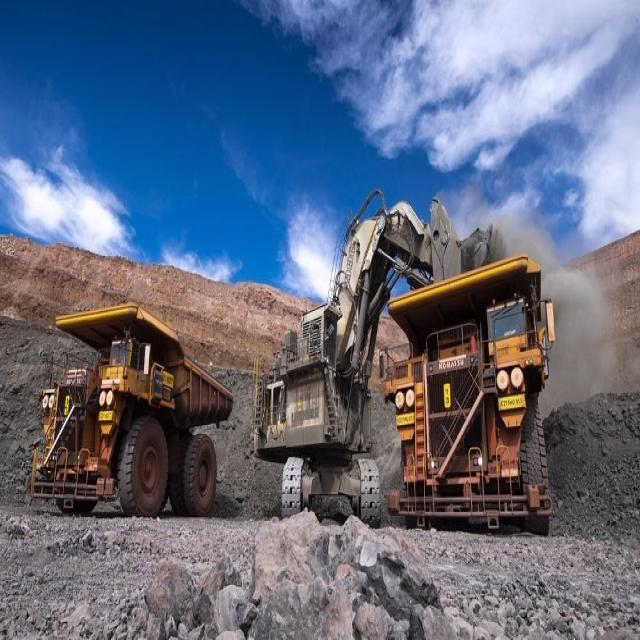dump_truck: (388, 274, 570, 540), (29, 297, 235, 523)
